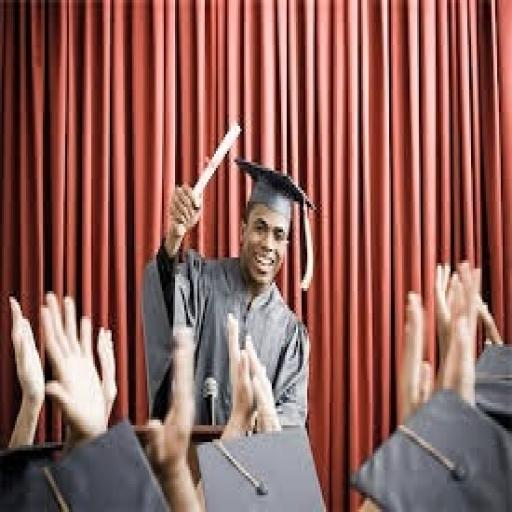clapping: (7, 176, 354, 512), (348, 258, 510, 510)
